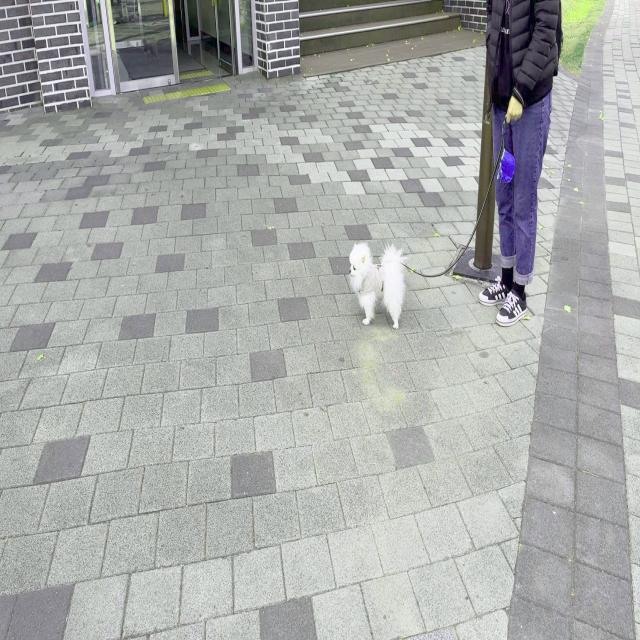Leashed_Dog: (348, 95, 526, 329)
